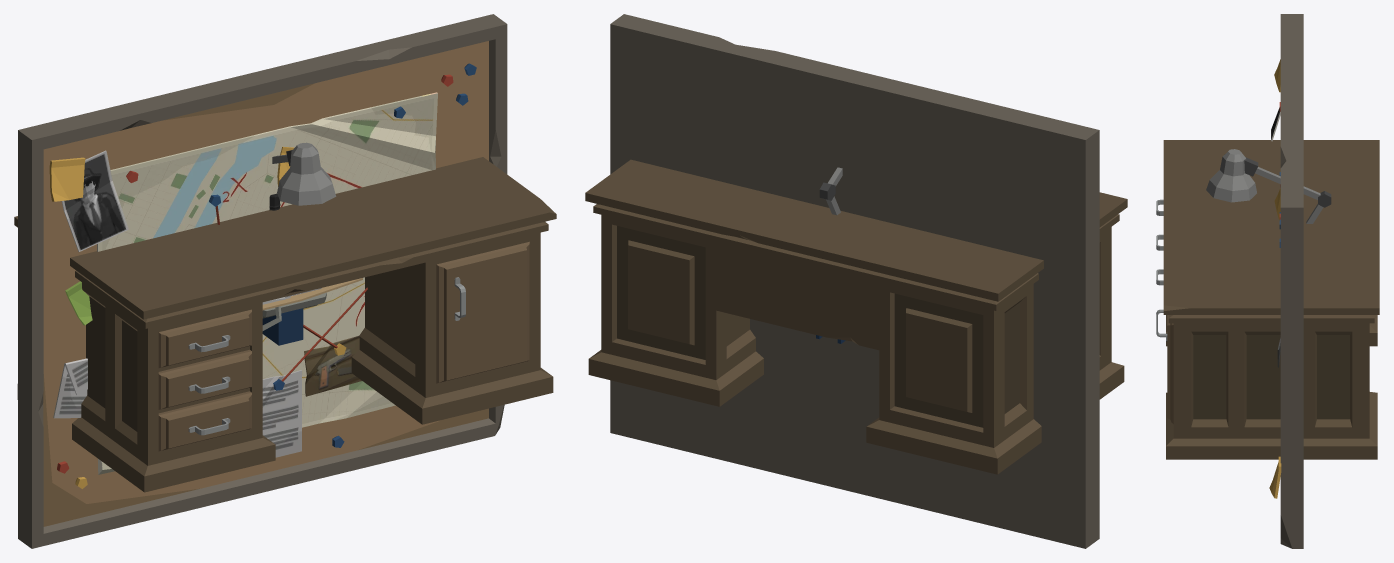
Rendered from props.glb.
The picture shows the model from 3 angles, left to right: view 1: azimuth 30°, elevation 25°; view 2: azimuth 150°, elevation 25°; view 3: azimuth 270°, elevation 25°; orthographic projection. The views are drawn at different scales.
Visible parts, largest first — view 1: Pinboard_01, Desk_01, Desk_01_Door, Desk_Lamp_01, Folder_03, Phone_01, Folder_02; view 2: Pinboard_01, Desk_01; view 3: Desk_01, Pinboard_01, Desk_Lamp_01, Desk_01_Door.
Part boxes in pixels (bbox=[...]): Pinboard_01: bbox=[18, 14, 507, 548]; Desk_01: bbox=[14, 157, 556, 492]; Desk_01_Door: bbox=[436, 241, 529, 383]; Desk_Lamp_01: bbox=[272, 142, 336, 205]; Folder_03: bbox=[262, 308, 303, 345]; Phone_01: bbox=[262, 292, 326, 330]; Folder_02: bbox=[262, 278, 362, 310]; Pinboard_01: bbox=[610, 14, 1099, 548]; Desk_01: bbox=[585, 159, 1127, 474]; Desk_01: bbox=[1156, 140, 1379, 459]; Pinboard_01: bbox=[1269, 14, 1303, 548]; Desk_Lamp_01: bbox=[1206, 149, 1331, 223]; Desk_01_Door: bbox=[1156, 309, 1173, 423].
Bounding box in the file's own units: 2.11 × 1.68 × 0.996.
1 material, 1 textured.
